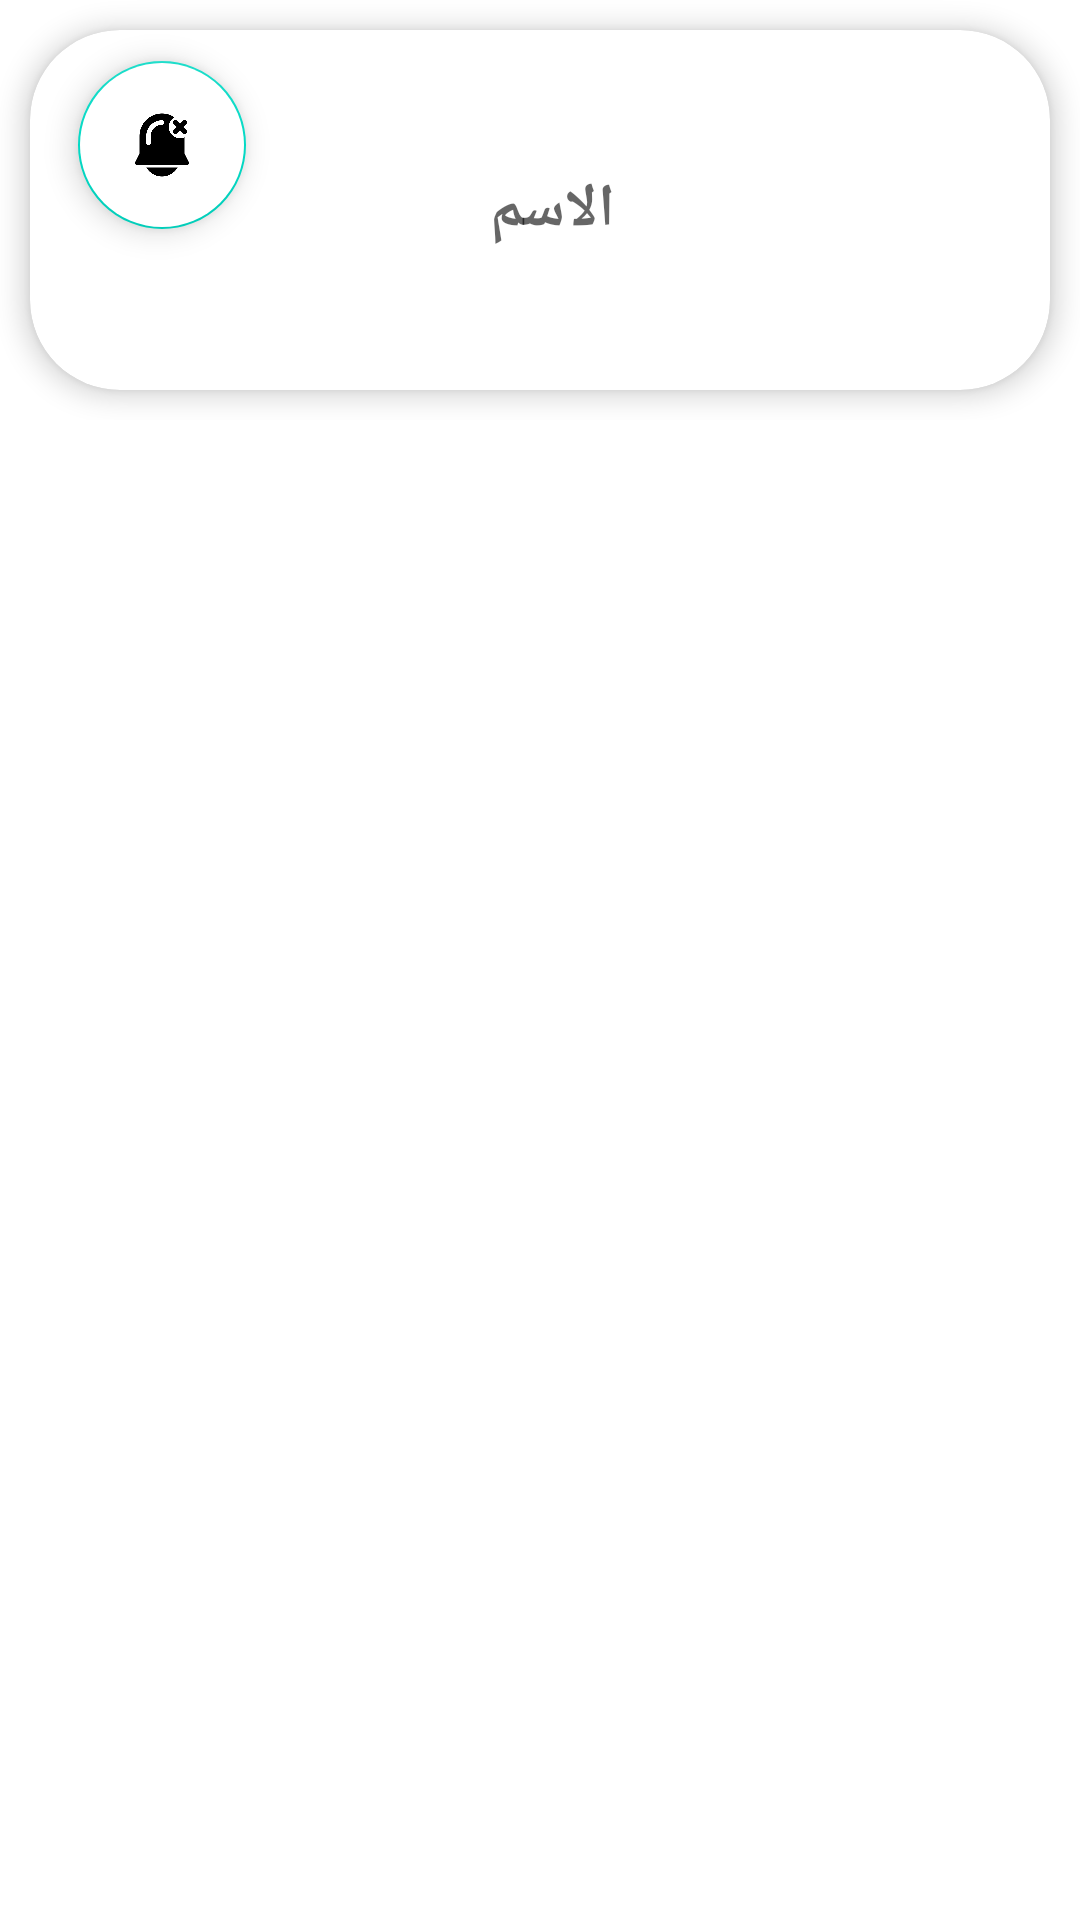

Icons on this 1080 × 1920 Android screen, each with its box as [left=x1, top=y1, right=x2, bottom=y2]:
remove: [left=78, top=61, right=246, bottom=229]
